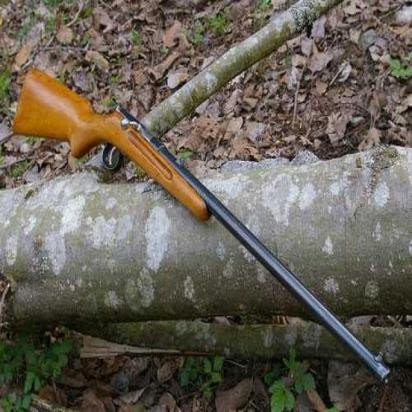Gun: (12, 67, 394, 389)
